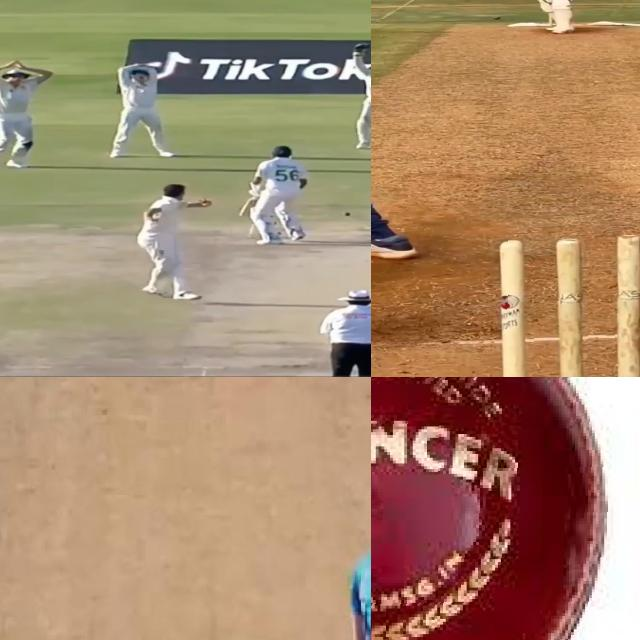Cricket ball: (371, 377, 622, 640), (494, 235, 640, 377), (344, 211, 352, 217), (492, 15, 501, 20)
